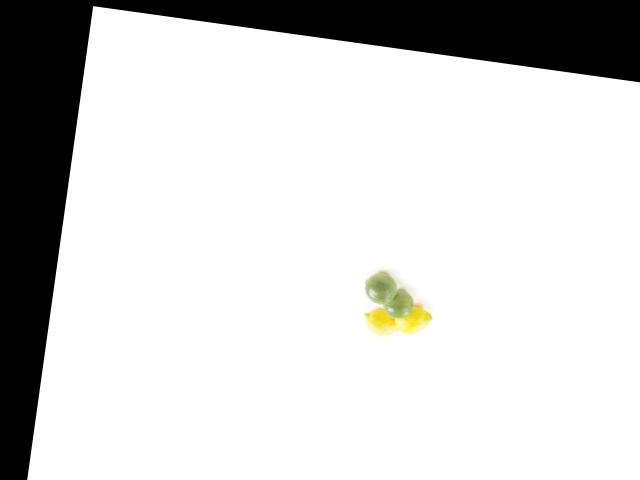lemon: (358, 270, 399, 307)
